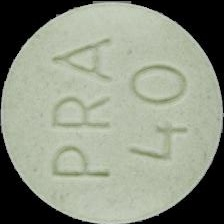43353-474: (0, 0, 224, 224)
